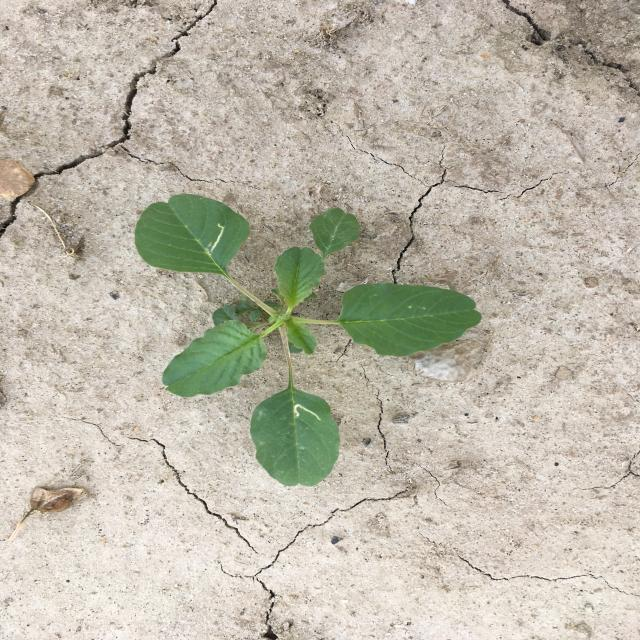PalmerAmaranth: (135, 194, 482, 487)
